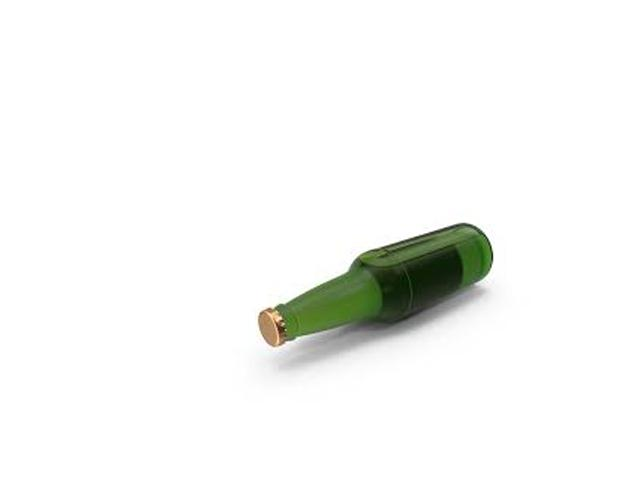beer: (256, 223, 493, 347)
